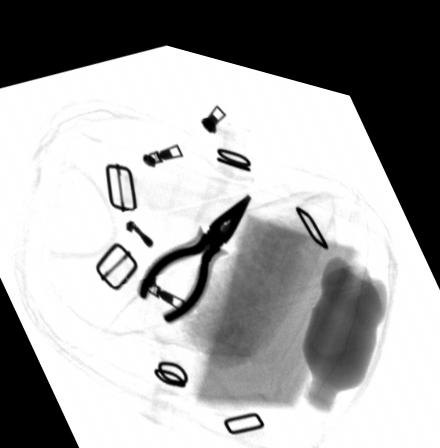Pliers: (136, 179, 250, 315)
